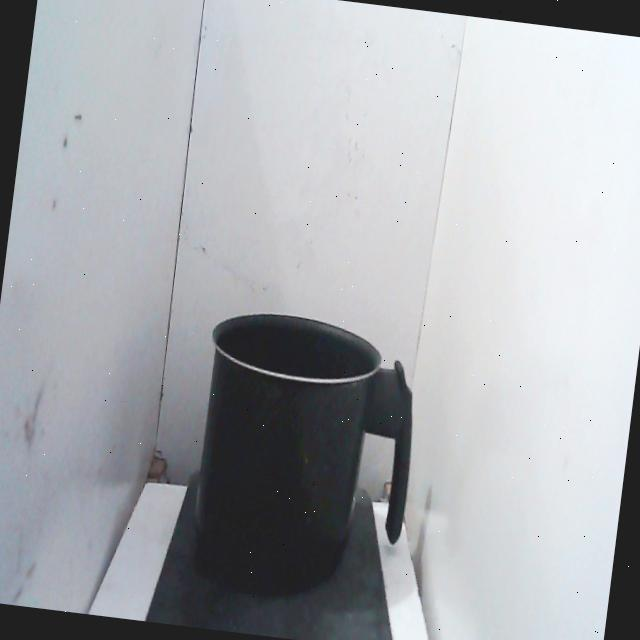metal: (172, 292, 432, 612)
